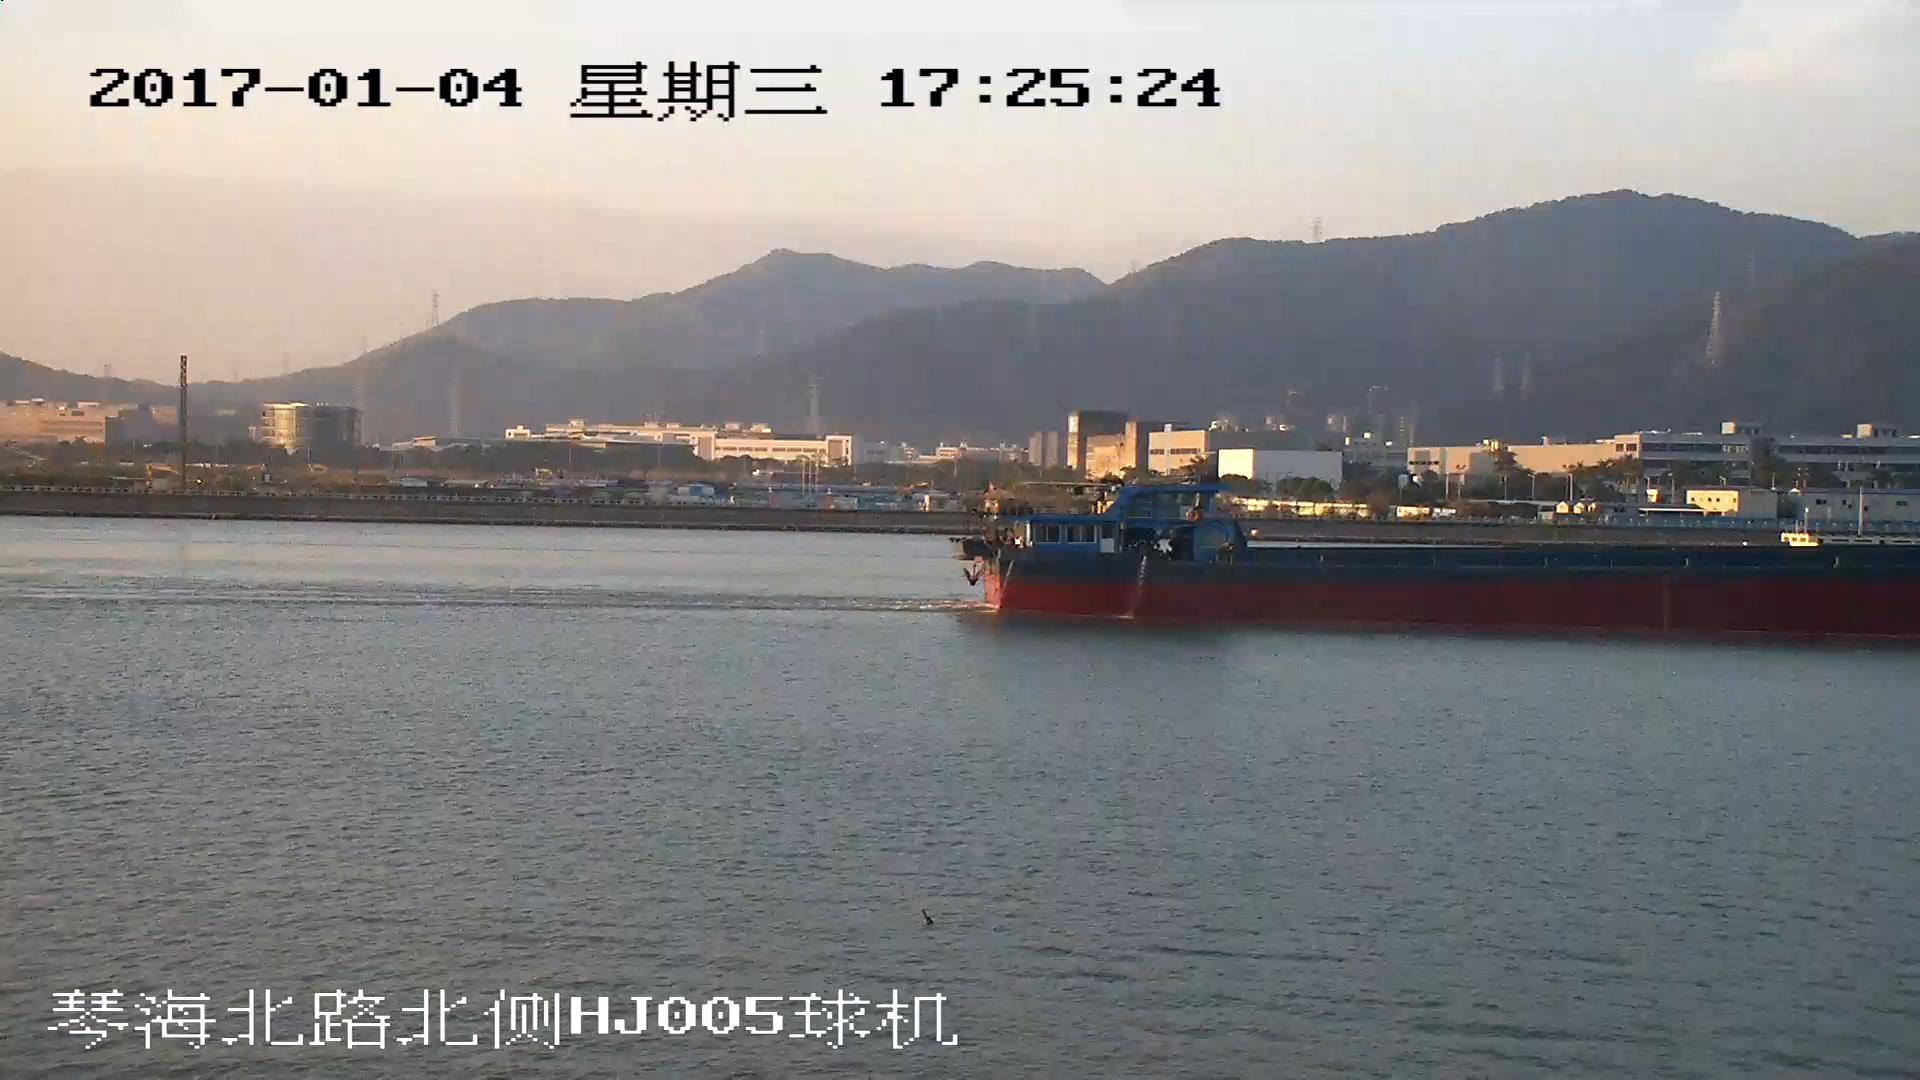Ship: (961, 477, 1920, 622)
